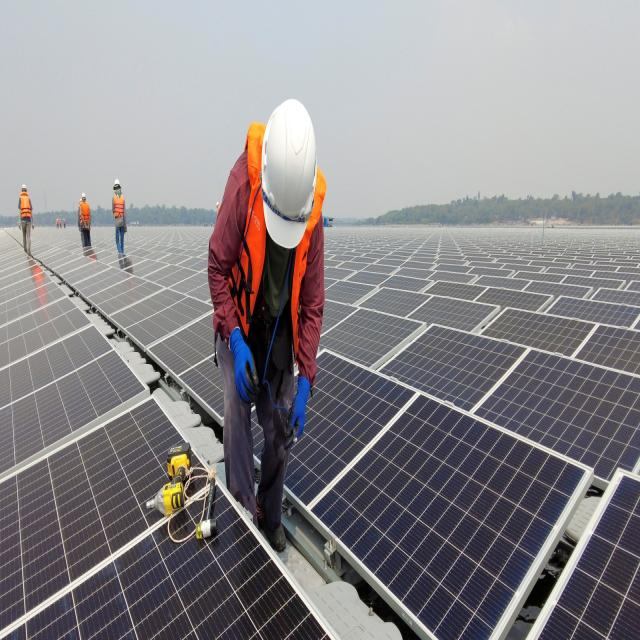Clean: (0, 230, 336, 640), (284, 299, 640, 640), (520, 468, 640, 640)
Dusty: (325, 210, 639, 376), (26, 214, 221, 404)
